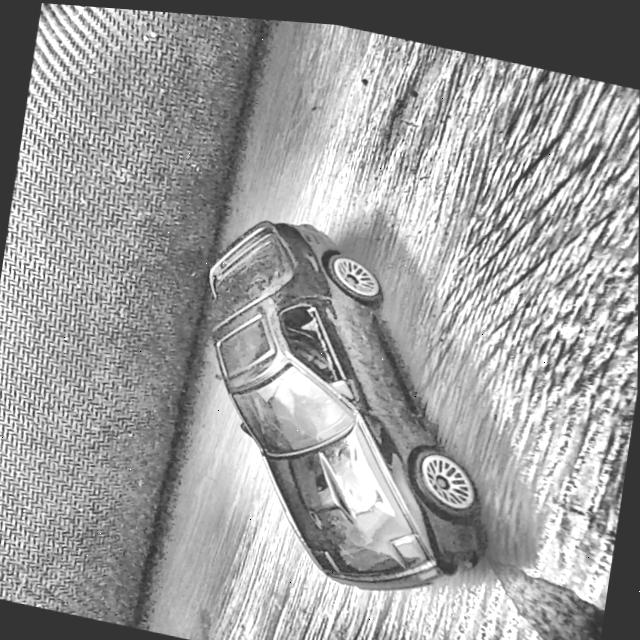car: (167, 197, 525, 608)
